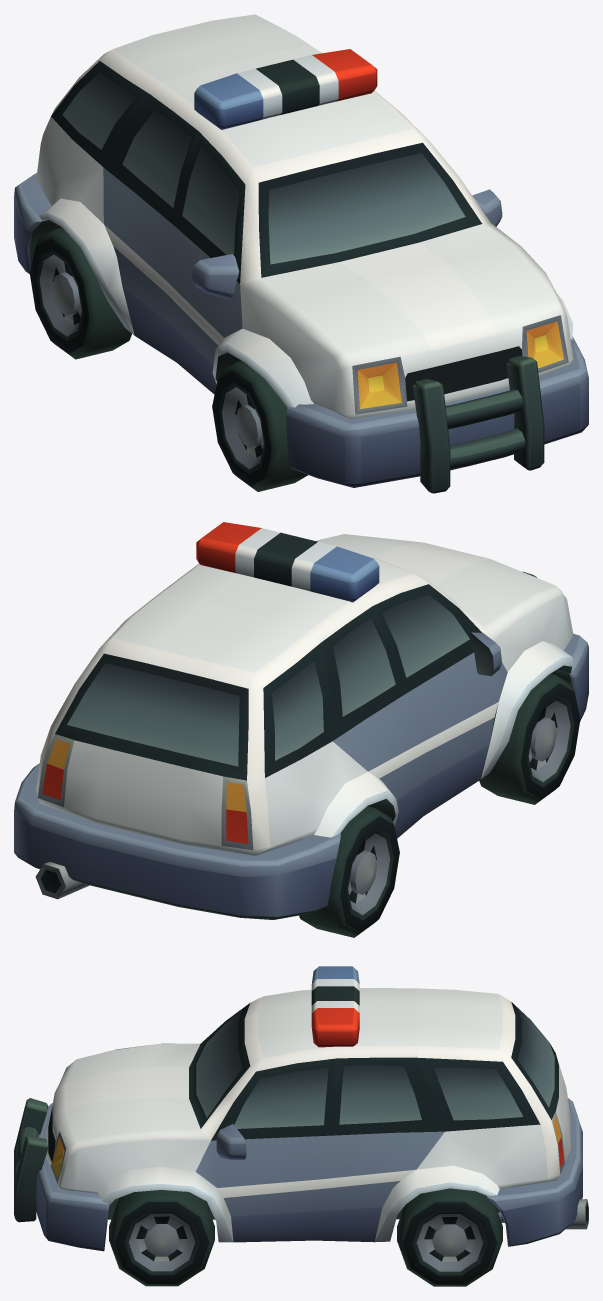
Rendered from SUV_police.fbx.
The picture shows the model from 3 angles, top to bottom: view 1: azimuth 30°, elevation 25°; view 2: azimuth 150°, elevation 25°; view 3: azimuth 270°, elevation 25°; orthographic projection. The views are drawn at different scales.
Visible parts, largest first — view 1: SUV_police, wheel_SUV_back, wheel_SUV_front_right; view 2: SUV_police, wheel_SUV_front_right, wheel_SUV_back; view 3: SUV_police, wheel_SUV_front_left, wheel_SUV_back.
Boxes of the visible parts, x1=… form: SUV_police: x1=14, y1=14, x2=588, y2=493; wheel_SUV_back: x1=30, y1=228, x2=131, y2=359; wheel_SUV_front_right: x1=212, y1=361, x2=307, y2=491; SUV_police: x1=14, y1=522, x2=588, y2=919; wheel_SUV_front_right: x1=479, y1=673, x2=580, y2=804; wheel_SUV_back: x1=299, y1=806, x2=399, y2=937; SUV_police: x1=14, y1=966, x2=588, y2=1251; wheel_SUV_front_left: x1=109, y1=1190, x2=214, y2=1286; wheel_SUV_back: x1=397, y1=1188, x2=502, y2=1286.
Bounding box in the file's own units: 250 × 226 × 501.
Materials: 1 (1 with a texture image).
